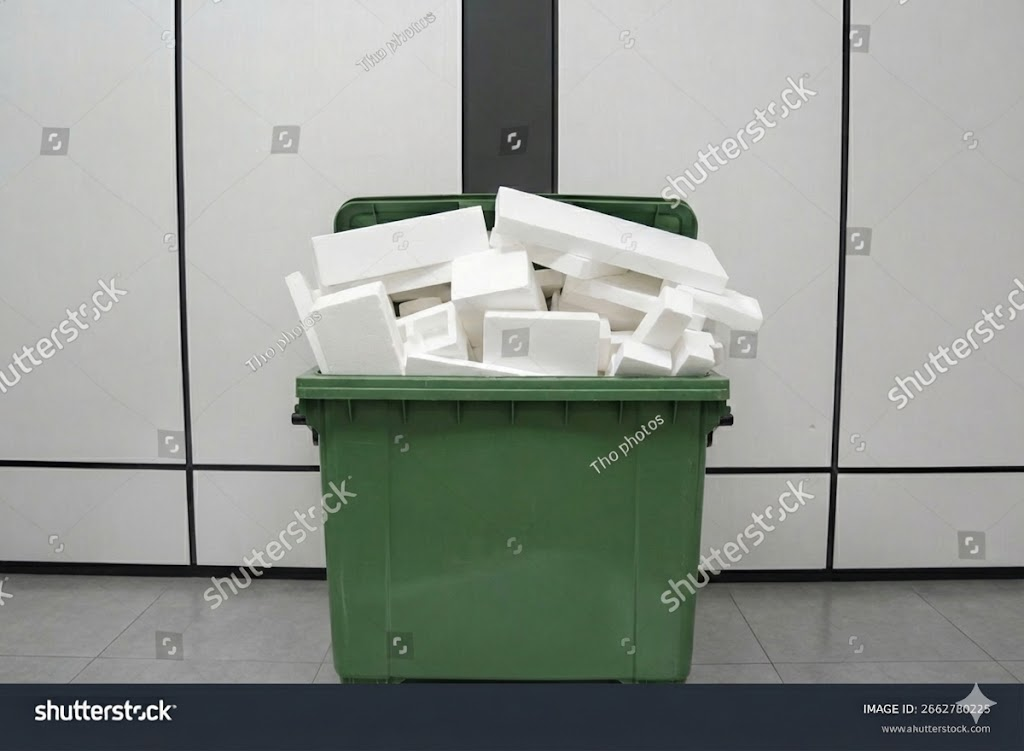bin_full: (286, 187, 761, 680)
bulk_waste: (313, 206, 486, 285)
